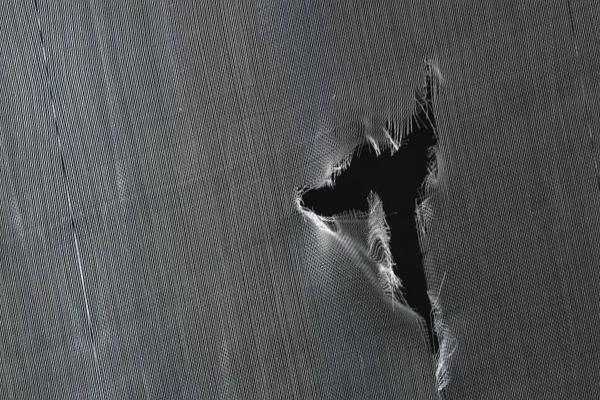hole: (294, 55, 462, 395)
